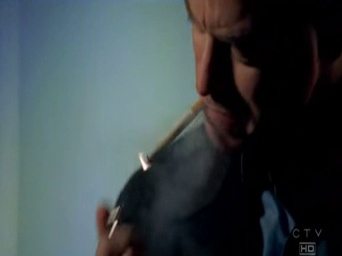smoke: (146, 101, 203, 160)
